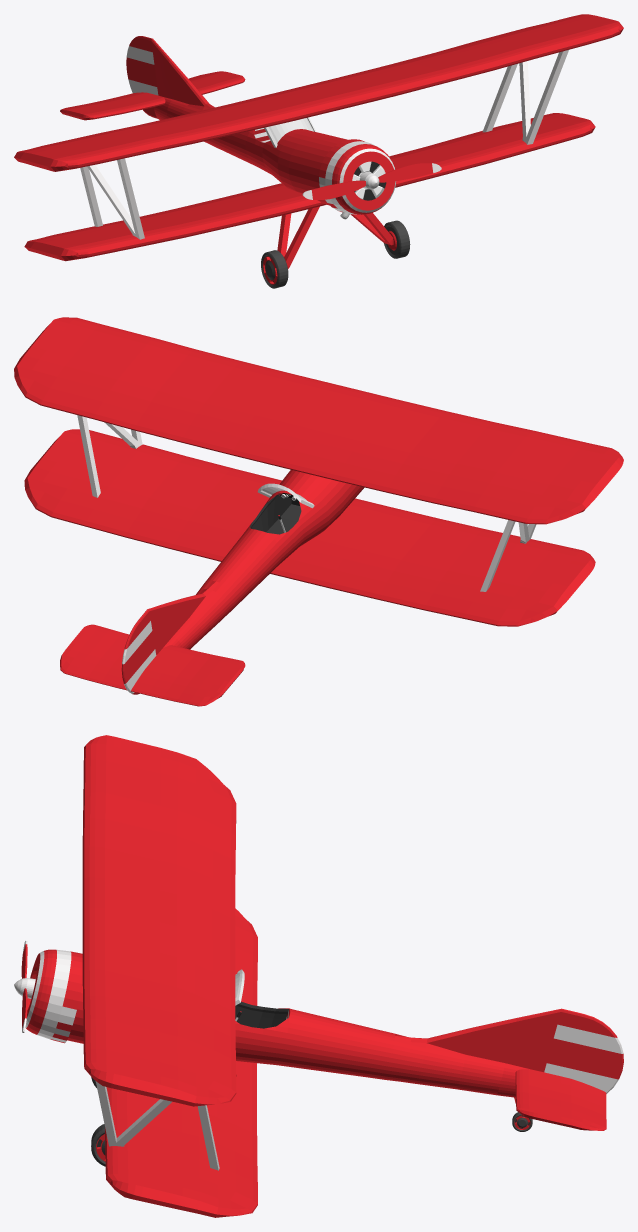
File: Bi - Plane_v1_Blue_Emerald_3D_fbx_file.fbx
The picture shows the model from 3 angles, top to bottom: view 1: azimuth 30°, elevation 25°; view 2: azimuth 150°, elevation 25°; view 3: azimuth 270°, elevation 25°; orthographic projection. The views are drawn at different scales.
Parts seen in each view (by area): view 1: Wing_2, Wing_1, Fuselage, Engine, Horizontal_Stabilizer, Strut_Left, Strut_Right, Propeller, Rudder, Chassis, Right_Wheel, Left_Wheel (+1 smaller); view 2: Wing_2, Wing_1, Fuselage, Horizontal_Stabilizer, Rudder, Strut_Left, Strut_Right; view 3: Wing_2, Fuselage, Wing_1, Rudder, Horizontal_Stabilizer, Engine, Strut_Left, Propeller.
Part boxes in pixels (box(x1,y1,x2,y2)): Wing_2: box(14, 14, 623, 171); Wing_1: box(24, 113, 595, 261); Fuselage: box(151, 38, 347, 205); Engine: box(319, 139, 396, 214); Horizontal_Stabilizer: box(60, 71, 245, 120); Strut_Left: box(482, 50, 568, 144); Strut_Right: box(80, 158, 144, 239); Propeller: box(302, 163, 441, 199); Rudder: box(126, 36, 158, 118); Chassis: box(277, 206, 393, 268); Right_Wheel: box(261, 250, 288, 288); Left_Wheel: box(384, 220, 410, 258); Wing_2: box(14, 317, 623, 524); Wing_1: box(24, 429, 595, 626); Fuselage: box(148, 470, 364, 654); Horizontal_Stabilizer: box(60, 624, 245, 706); Rudder: box(121, 609, 156, 694); Strut_Left: box(77, 415, 142, 497); Strut_Right: box(480, 520, 536, 591); Wing_2: box(82, 735, 236, 1106); Fuselage: box(67, 985, 561, 1097); Wing_1: box(105, 908, 257, 1217); Rudder: box(544, 1009, 623, 1093); Horizontal_Stabilizer: box(515, 1069, 606, 1130); Engine: box(25, 949, 82, 1043); Strut_Left: box(95, 1081, 219, 1170); Propeller: box(14, 941, 35, 1032).
Bounding box in the file's own units: 402 × 123 × 302.
